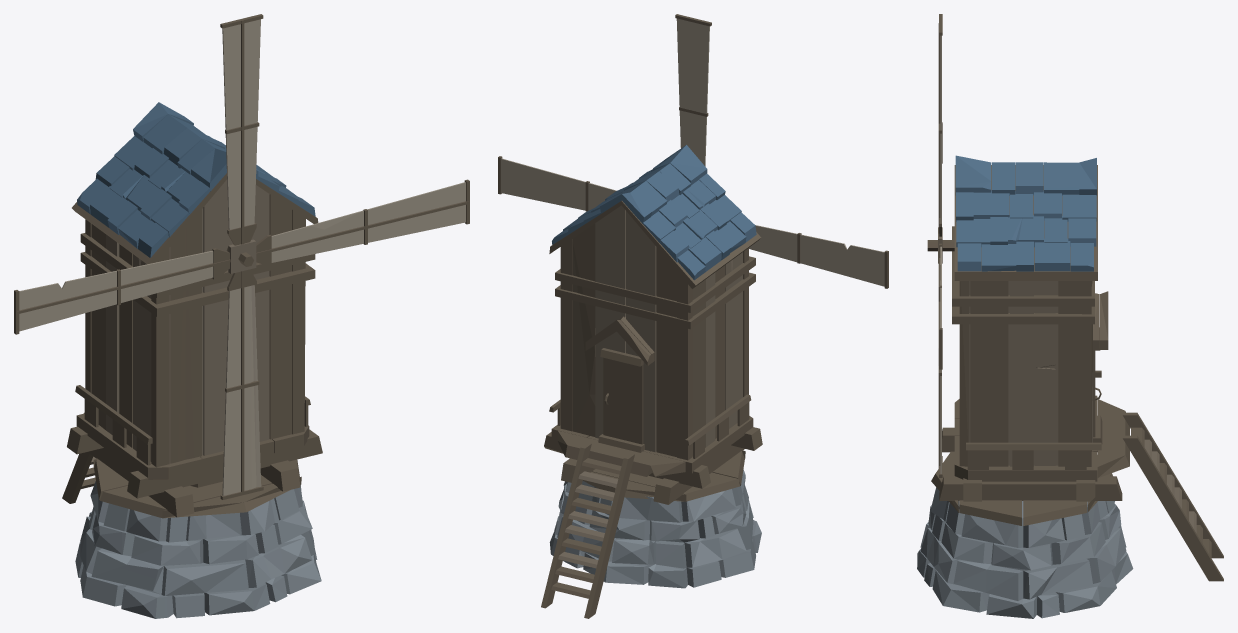
Rendered from Mill_02.glb.
3 renders of one model, left to right at view 1: azimuth 30°, elevation 25°; view 2: azimuth 150°, elevation 25°; view 3: azimuth 270°, elevation 25°, orthographic. The views are drawn at different scales.
Visible parts, largest first — view 1: MILL2; view 2: MILL2; view 3: MILL2.
Boxes of the visible parts, box(x1,y1,x2,y2) form: MILL2: box(14, 14, 469, 618); MILL2: box(498, 14, 888, 618); MILL2: box(917, 14, 1223, 618).
Size of the model in its own units: 8.71 by 10.68 by 5.44.
1 material, 1 textured.
